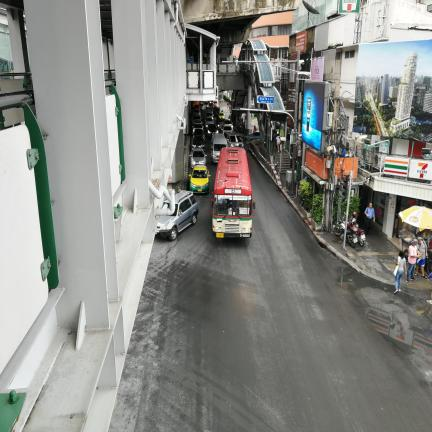bus: (212, 147, 255, 238)
car: (156, 191, 198, 241), (210, 134, 228, 163), (224, 132, 243, 148), (190, 148, 206, 167), (206, 122, 218, 136), (191, 136, 205, 148), (192, 122, 203, 135), (193, 127, 205, 137), (223, 124, 233, 132), (223, 118, 232, 125), (218, 112, 225, 120), (218, 125, 224, 134), (162, 202, 169, 208)
human: (407, 239, 421, 284), (414, 236, 428, 279), (394, 250, 407, 294), (364, 202, 375, 237), (276, 134, 281, 152)
motorbike: (346, 214, 364, 248), (334, 219, 345, 238)
taxi: (189, 165, 210, 194), (218, 111, 225, 119)
